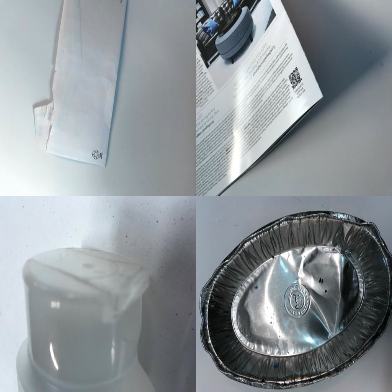metal: (200, 211, 392, 388)
paper: (196, 1, 325, 196), (32, 1, 128, 168)
plastic: (15, 247, 158, 392)
